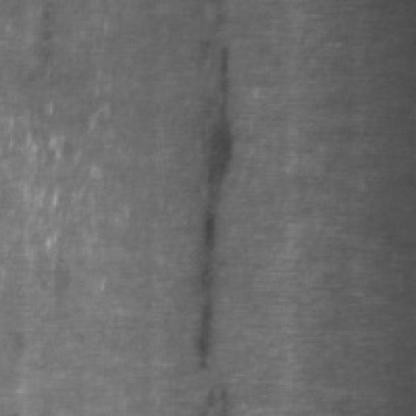inclusion: (187, 39, 250, 235), (187, 198, 227, 374)
